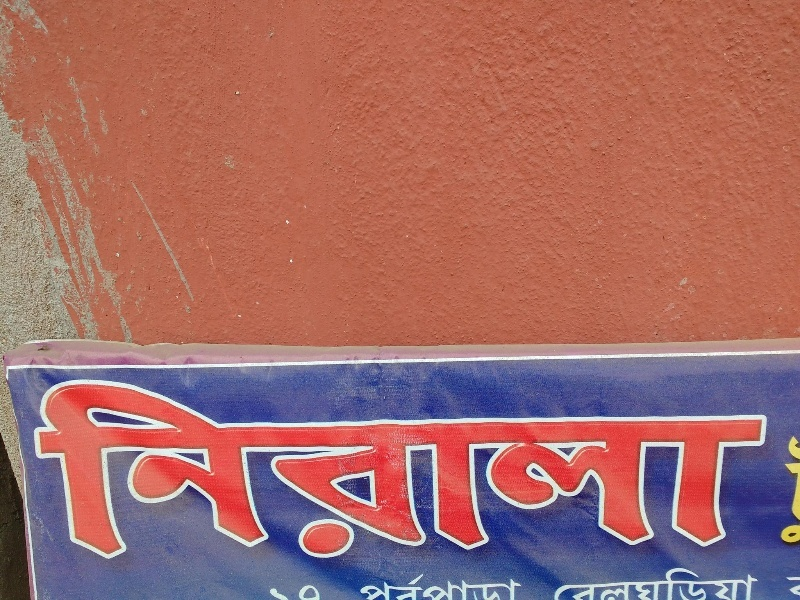text: (33, 379, 48, 574), (49, 379, 64, 574), (65, 379, 80, 574), (81, 379, 96, 574), (97, 379, 112, 574), (113, 379, 128, 574), (129, 379, 144, 574), (145, 379, 160, 574), (161, 379, 176, 574), (177, 379, 192, 574), (193, 379, 208, 574), (209, 379, 224, 574), (225, 379, 240, 574), (241, 379, 256, 574), (257, 379, 272, 574), (273, 379, 288, 574), (289, 379, 304, 574), (305, 379, 320, 574), (321, 379, 336, 574), (337, 379, 352, 574), (353, 379, 368, 574), (369, 379, 384, 574), (385, 379, 400, 574), (401, 379, 416, 574), (417, 379, 432, 574), (433, 379, 448, 574), (449, 379, 464, 574), (465, 379, 480, 574), (481, 379, 496, 574), (497, 379, 512, 574), (513, 379, 528, 574), (529, 379, 544, 574), (545, 379, 560, 574), (561, 379, 576, 574), (577, 379, 592, 574), (593, 379, 608, 574), (609, 379, 624, 574), (625, 379, 640, 574), (641, 379, 656, 574), (657, 379, 672, 574), (673, 379, 688, 574), (689, 379, 704, 574), (705, 379, 720, 574), (721, 379, 736, 574), (737, 379, 752, 574), (753, 379, 768, 574), (769, 379, 779, 574), (23, 379, 32, 574), (788, 435, 800, 548), (561, 563, 576, 600), (577, 563, 592, 600), (593, 563, 608, 600), (609, 563, 624, 600), (625, 563, 640, 600), (641, 563, 656, 600), (657, 563, 672, 600), (673, 563, 688, 600), (689, 563, 704, 600), (705, 563, 720, 600), (721, 563, 736, 600), (737, 563, 752, 600), (369, 573, 384, 600), (385, 573, 400, 600), (401, 573, 416, 600), (417, 573, 432, 600), (433, 573, 448, 600), (449, 573, 464, 600), (465, 573, 480, 600), (481, 573, 496, 600), (497, 573, 512, 600), (785, 573, 800, 599), (513, 573, 526, 600), (753, 563, 761, 600), (273, 581, 288, 600), (289, 581, 304, 600), (305, 581, 320, 600), (359, 573, 368, 600), (266, 581, 272, 600), (557, 563, 560, 600), (321, 581, 326, 600), (782, 573, 784, 599)
